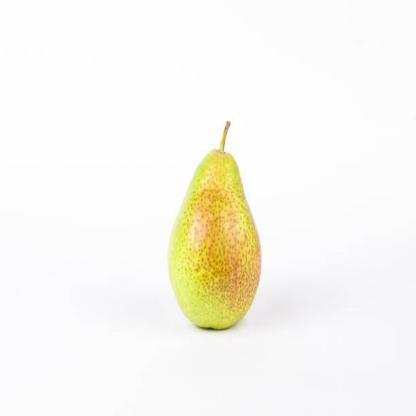Paer: (177, 116, 271, 344)
